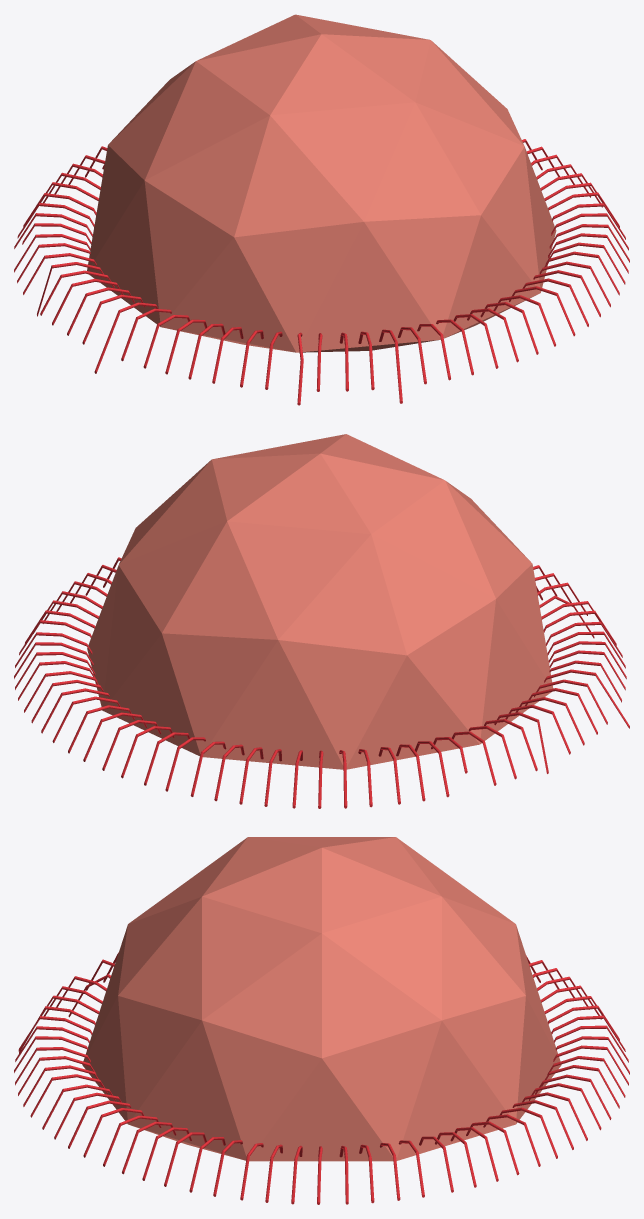
Rendered from tutu.glb.
The picture shows the model from 3 angles, top to bottom: view 1: azimuth 30°, elevation 25°; view 2: azimuth 150°, elevation 25°; view 3: azimuth 270°, elevation 25°; orthographic projection.
Visible parts, largest first — view 1: Cylinder.003; view 2: Cylinder.003; view 3: Cylinder.003.
Part boxes in pixels (<box>): Cylinder.003: <box>14,14,629,405</box>; Cylinder.003: <box>14,434,629,808</box>; Cylinder.003: <box>14,837,629,1204</box>.
Size of the model in its own units: 1.55 by 0.6695 by 1.54.
